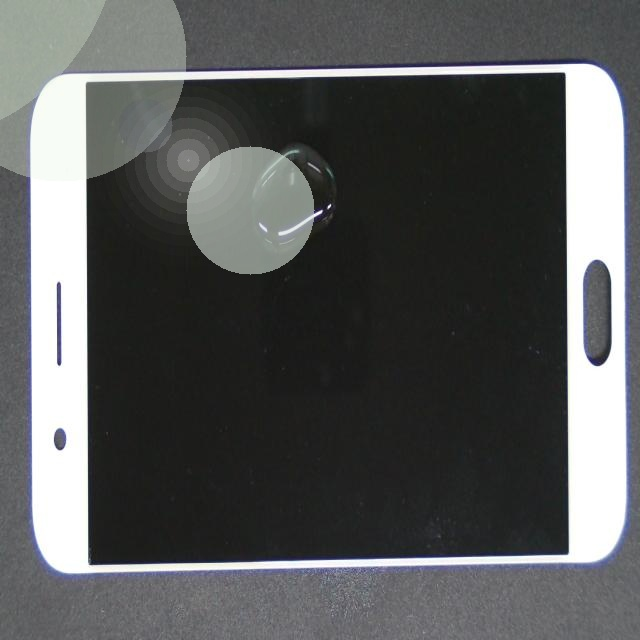oil: (114, 119, 397, 367)
